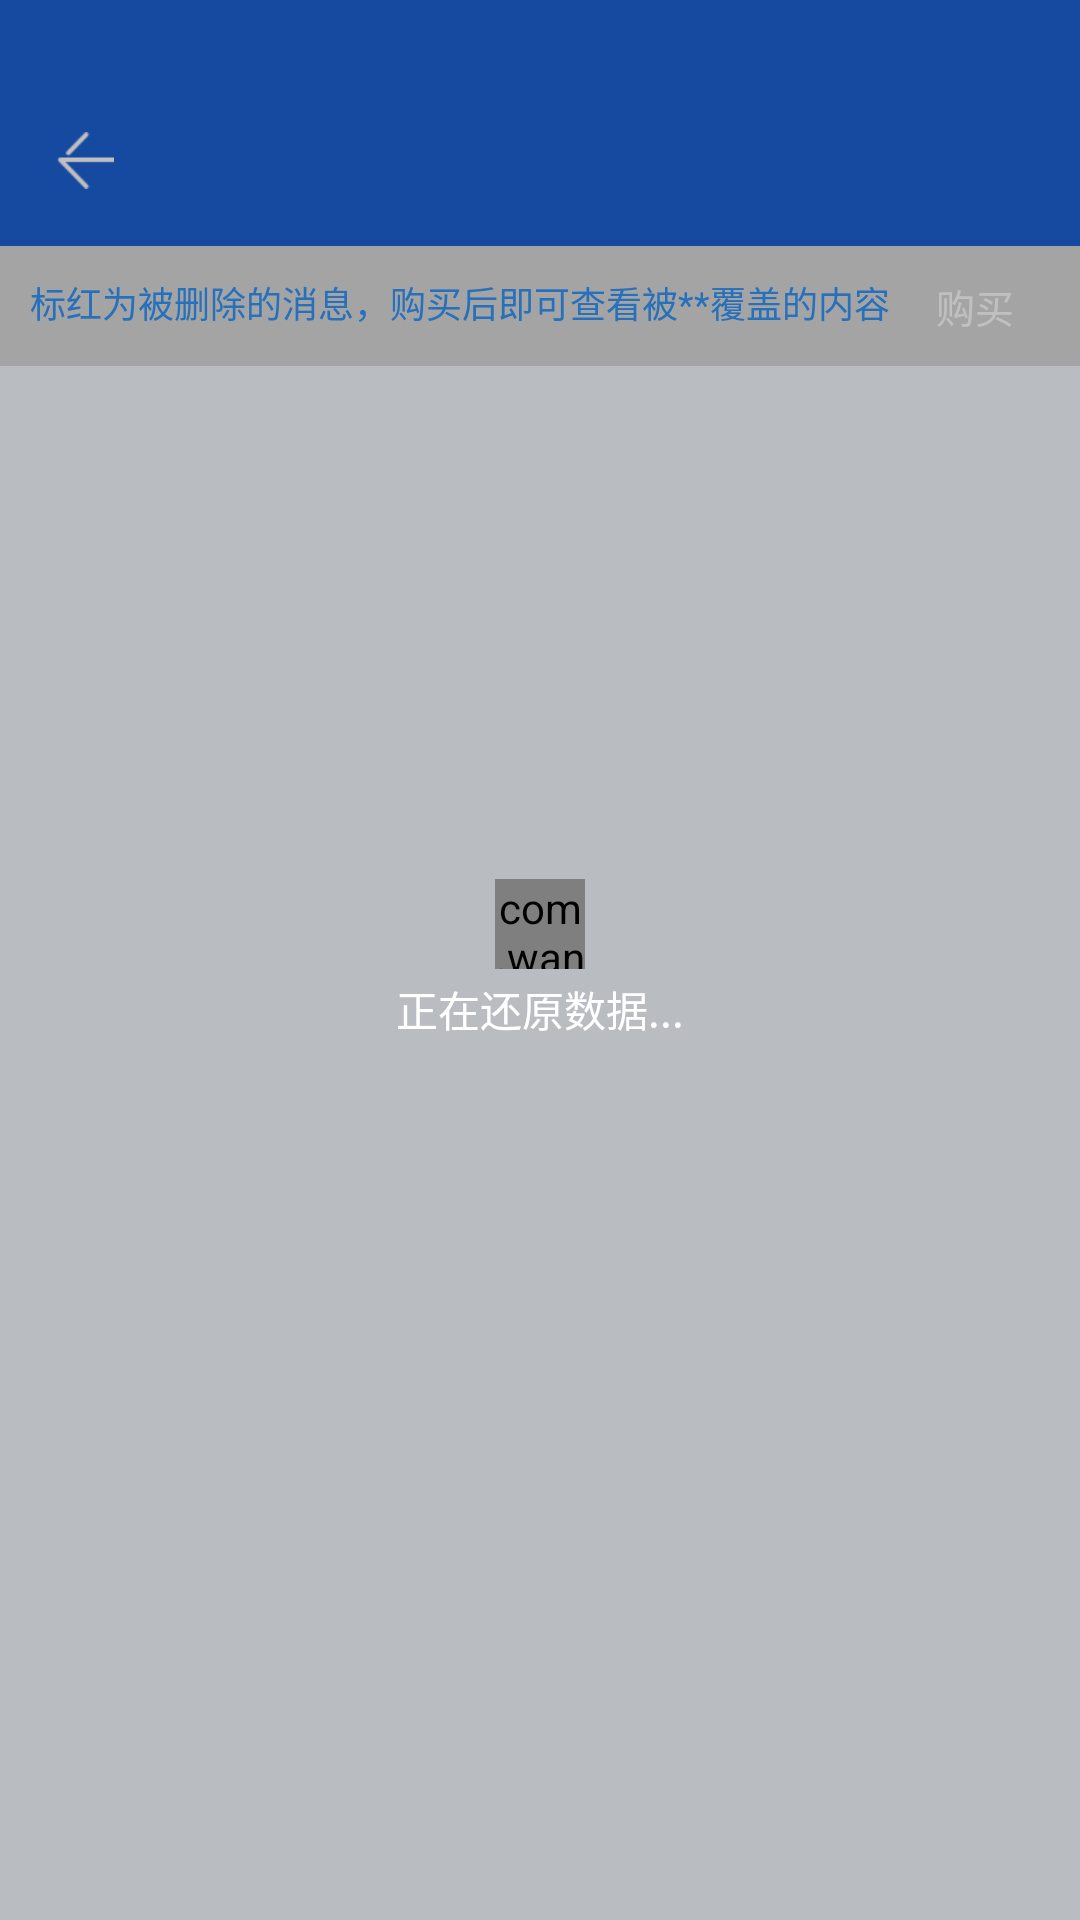

Named icons in this screenshot (1080 × 1920) and their centers, (x=x, y=y):
back: (x=85, y=160)
